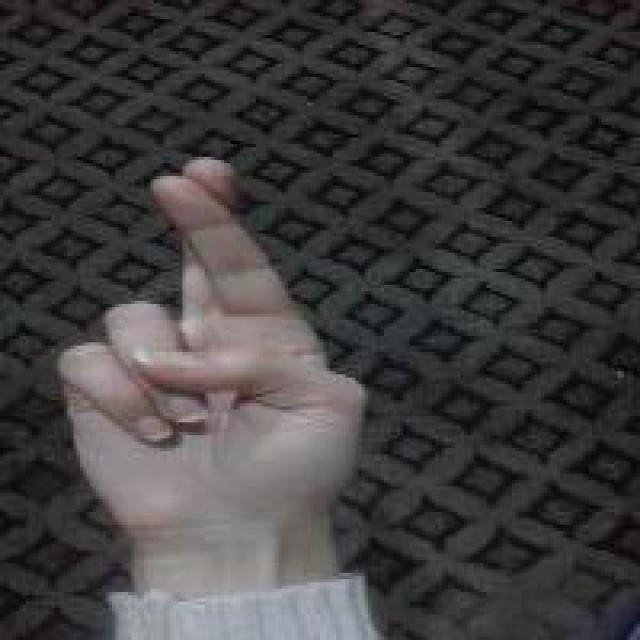R: (49, 150, 370, 570)
